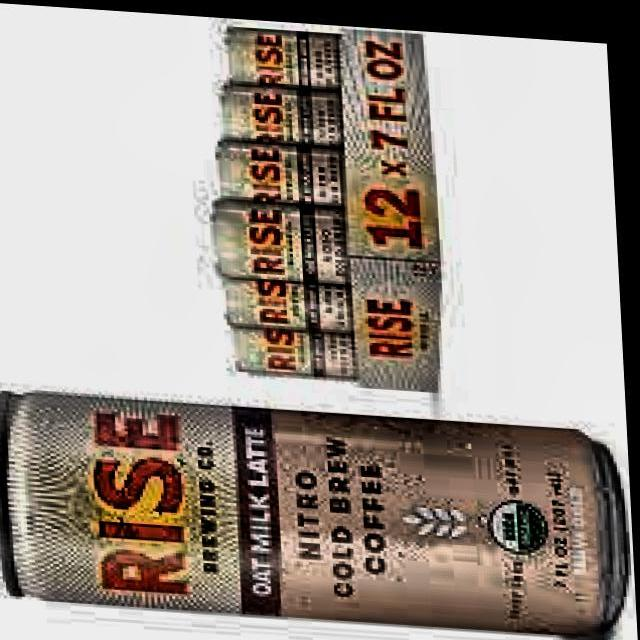litter: (0, 377, 639, 640), (211, 193, 354, 284), (212, 132, 350, 208), (217, 266, 358, 332), (218, 74, 350, 144), (225, 19, 355, 90), (225, 317, 364, 378)
